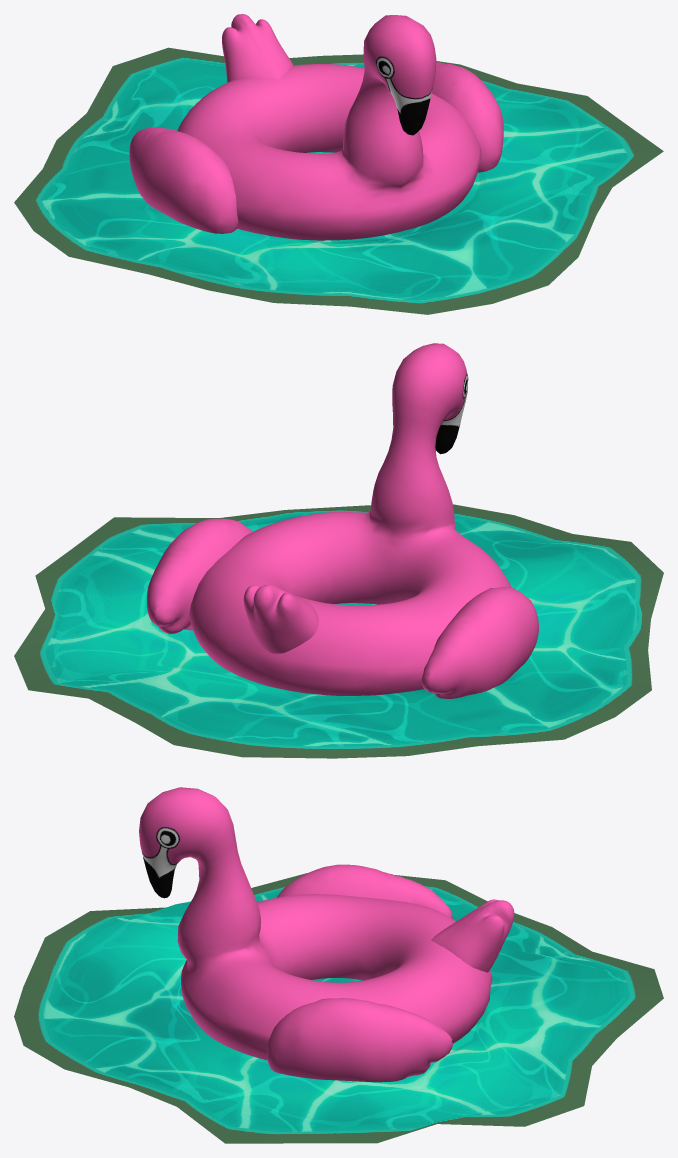
The picture shows the model from 3 angles, top to bottom: view 1: azimuth 30°, elevation 25°; view 2: azimuth 150°, elevation 25°; view 3: azimuth 270°, elevation 25°; orthographic projection. The views are drawn at different scales.
Parts seen in each view (by area): view 1: Tube003, Flamingo_Flamingo_0; view 2: Tube003, Flamingo_Flamingo_0; view 3: Tube003, Flamingo_Flamingo_0.
Part boxes in pixels (left/top/right/bottom): Tube003: left=14, top=47, right=663, bottom=314; Flamingo_Flamingo_0: left=129, top=14, right=503, bottom=240; Tube003: left=14, top=504, right=663, bottom=758; Flamingo_Flamingo_0: left=147, top=343, right=538, bottom=698; Tube003: left=14, top=873, right=663, bottom=1143; Flamingo_Flamingo_0: left=139, top=787, right=514, bottom=1082.
Bounding box in the file's own units: 167 × 68.56 × 170.
2 materials, 2 textured.
